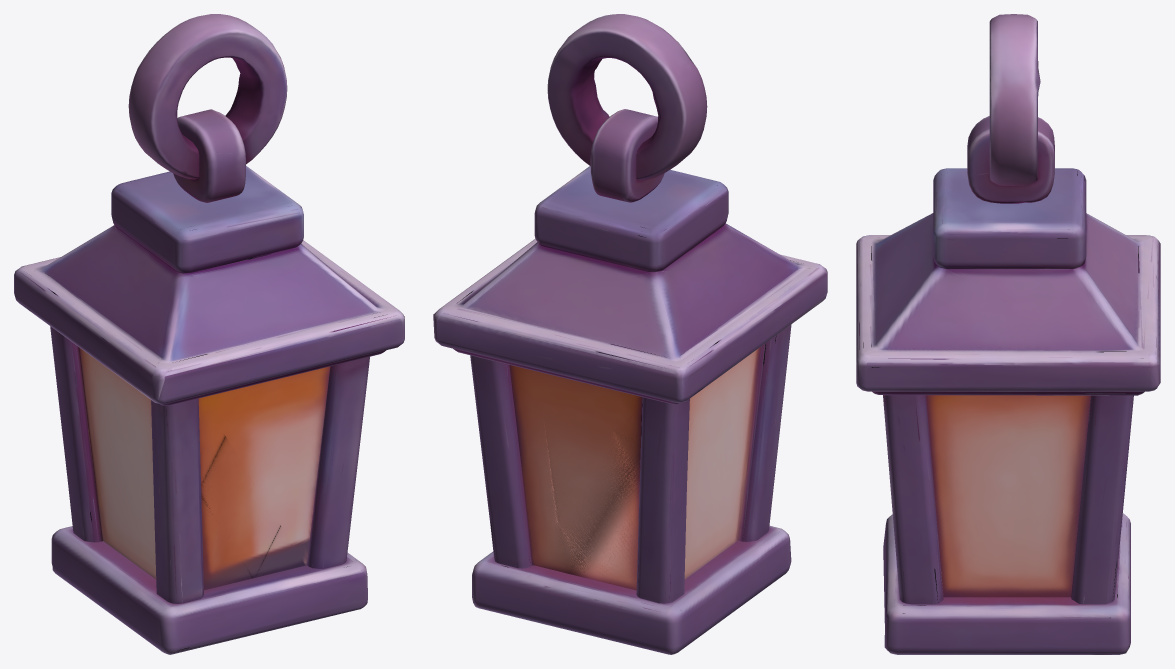
File: Lantern.glb
3 renders of one model, left to right at view 1: azimuth 30°, elevation 25°; view 2: azimuth 150°, elevation 25°; view 3: azimuth 270°, elevation 25°, orthographic. The views are drawn at different scales.
Parts seen in each view (by area): view 1: geometry_0; view 2: geometry_0; view 3: geometry_0.
Boxes of the visible parts, x1,y1,x2,y2 form: geometry_0: (14,14,404,654); geometry_0: (433,14,827,654); geometry_0: (856,14,1160,654).
Size of the model in its own units: 0.4434 by 0.9502 by 0.4468.
Materials: 1 (1 with a texture image).
